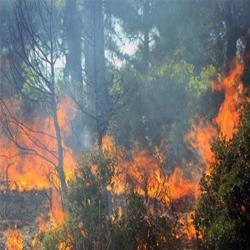fire: (7, 118, 57, 188), (214, 77, 242, 139), (142, 172, 194, 196)
